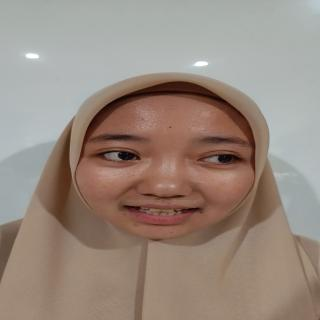Takut: (75, 87, 265, 244)
